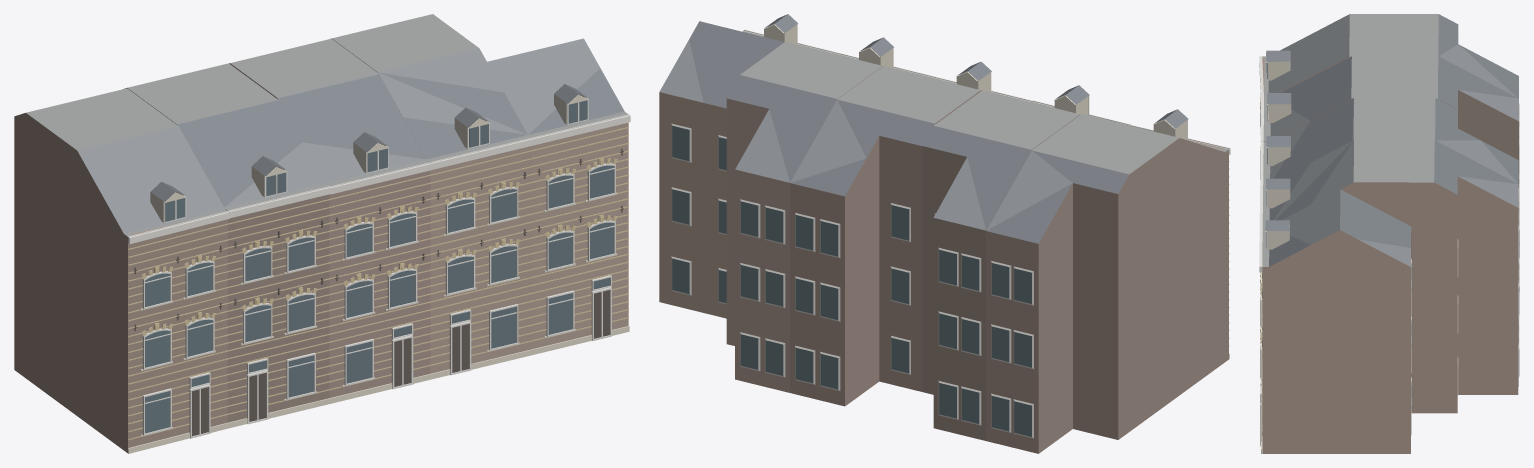
File: chunk-face-badlaan-1-21-r1.glb
The picture shows the model from 3 angles, left to right: view 1: azimuth 30°, elevation 25°; view 2: azimuth 150°, elevation 25°; view 3: azimuth 270°, elevation 25°; orthographic projection. The views are drawn at different scales.
Parts seen in each view (by area): view 1: face-badlaan-1-21-r1; view 2: face-badlaan-1-21-r1; view 3: face-badlaan-1-21-r1.
Part boxes in pixels (x1,y1,x2,y2): face-badlaan-1-21-r1: (14, 14, 630, 453); face-badlaan-1-21-r1: (659, 14, 1230, 453); face-badlaan-1-21-r1: (1259, 14, 1519, 453).
Bounding box in the file's own units: 29.14 × 14.87 × 15.21.
